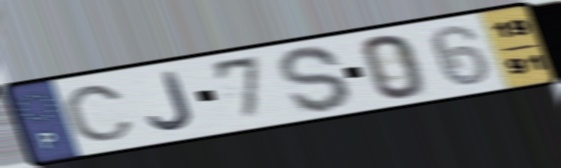0: (358, 32, 428, 101)
6: (428, 23, 495, 89)
7: (209, 53, 267, 124)
C: (61, 83, 137, 143)
J: (145, 68, 198, 133)
S: (274, 44, 355, 115)
